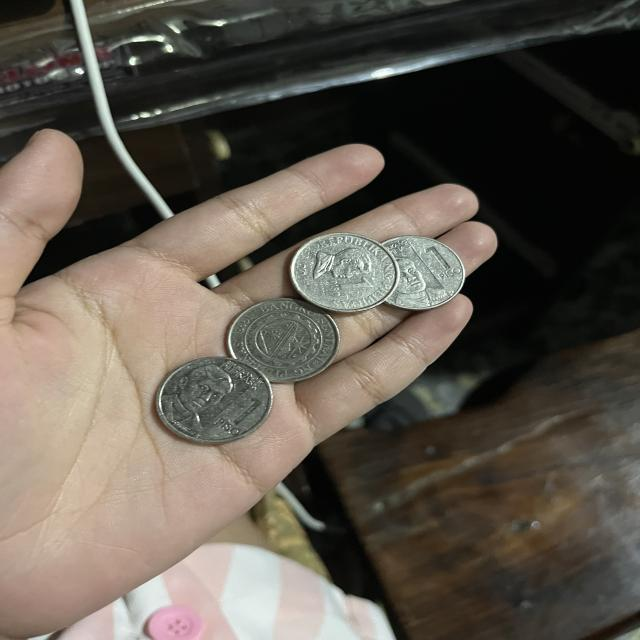1_New_Front: (170, 365, 262, 438), (384, 244, 457, 300)
1_Old_Back: (233, 305, 325, 373)
1_Old_Front: (309, 243, 379, 299)
